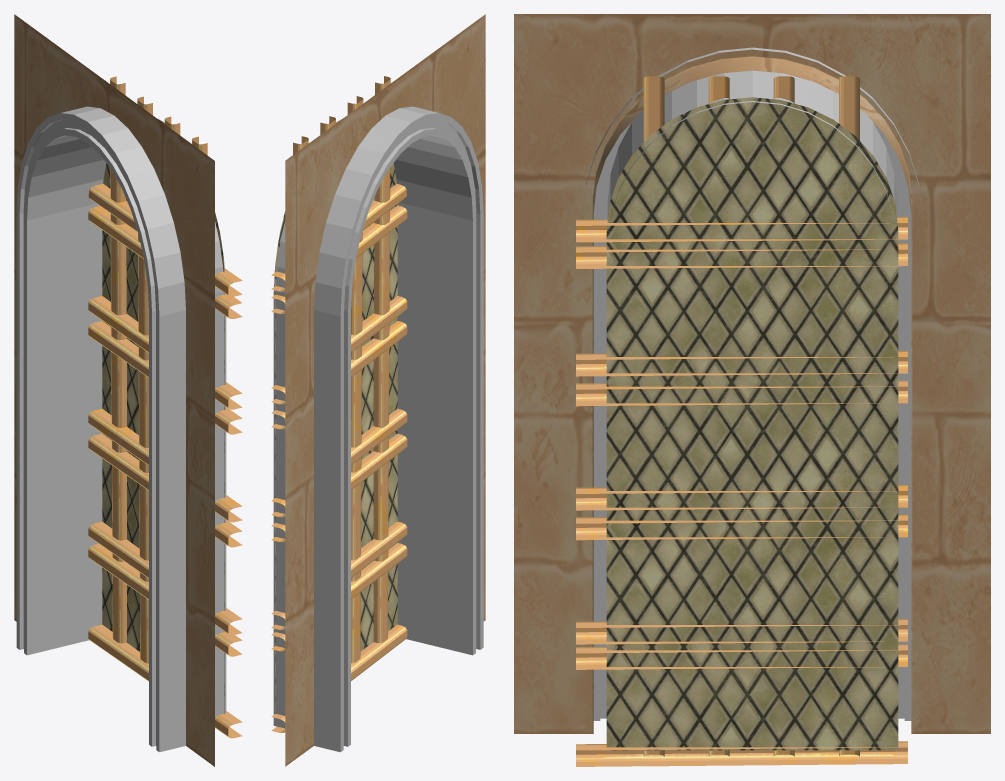
The model's file is SM_Wall_Window_01.fbx.
3 views of the same model, side by side, from view 1: azimuth 30°, elevation 25°; view 2: azimuth 150°, elevation 25°; view 3: azimuth 270°, elevation 25° (orthographic). The views are drawn at different scales.
Parts seen in each view (by area): view 1: SM_Wall_Window_01_LOD0; view 2: SM_Wall_Window_01_LOD0; view 3: SM_Wall_Window_01_LOD0.
Part boxes in pixels (x1,y1,x2,y2): SM_Wall_Window_01_LOD0: [14, 14, 242, 766]; SM_Wall_Window_01_LOD0: [271, 14, 485, 766]; SM_Wall_Window_01_LOD0: [514, 14, 990, 766].
Size of the model in its own units: 69.53 by 300 by 501.
